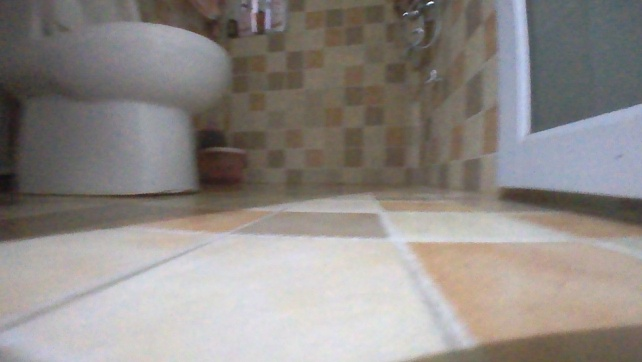toilet: (0, 0, 236, 196)
